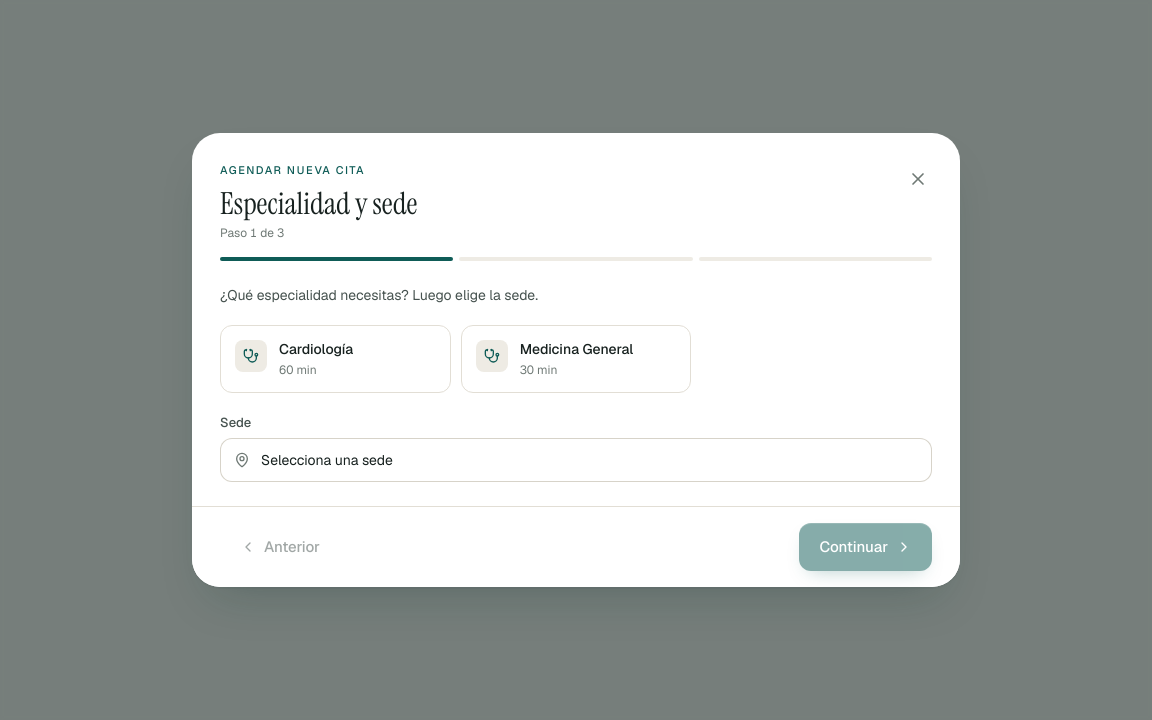
Test: BookAppointmentModal con calendario › consulta días del mes desde hoy y solo habilita los días con horarios
The width and height of the screenshot is (1152, 720).
Step 1. Click the radio button labelled "Cardiología 60 min" → (335, 359), box [220,325,451,393]
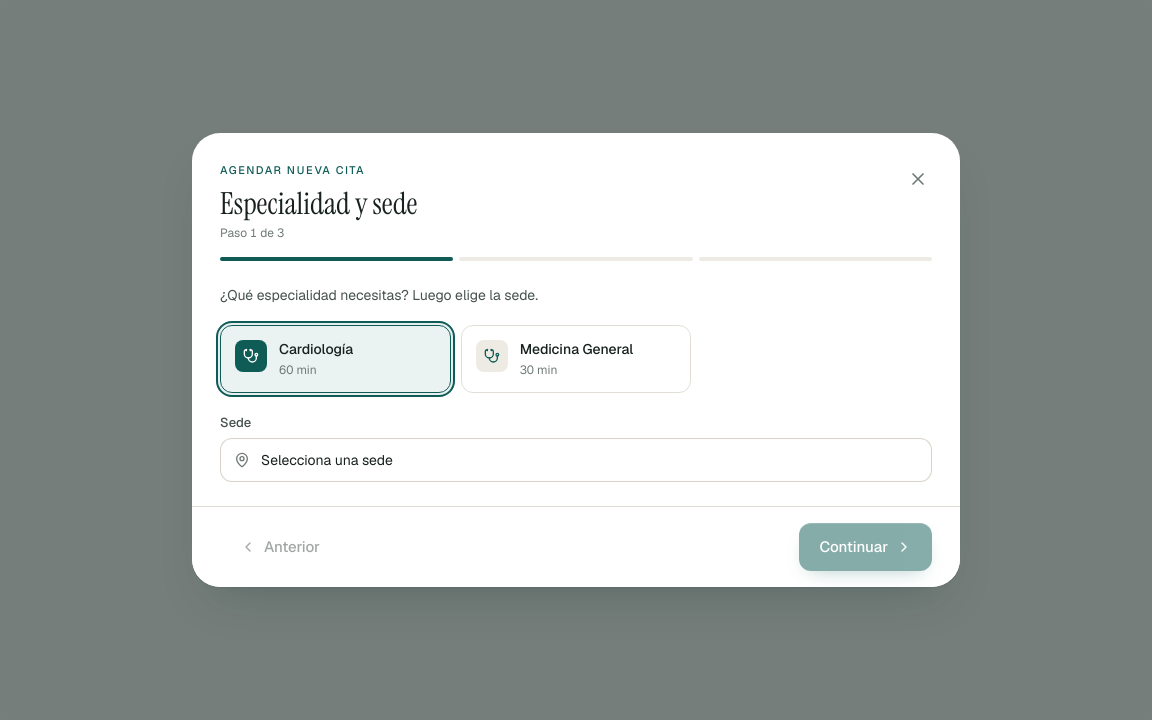
Step 2. Select "Sede Norte" in the dropdown labelled "Sede" → (576, 460), box [220,438,932,482]
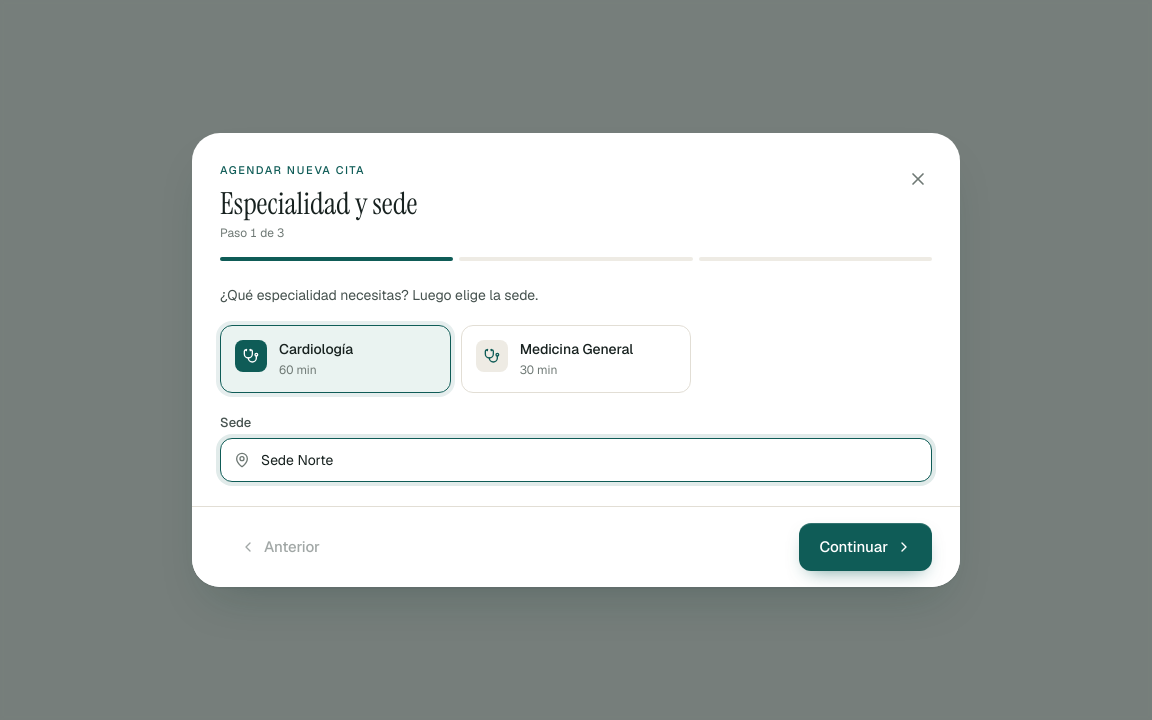
Step 3. Click the button "Continuar" → (866, 547), box [800,523,932,571]
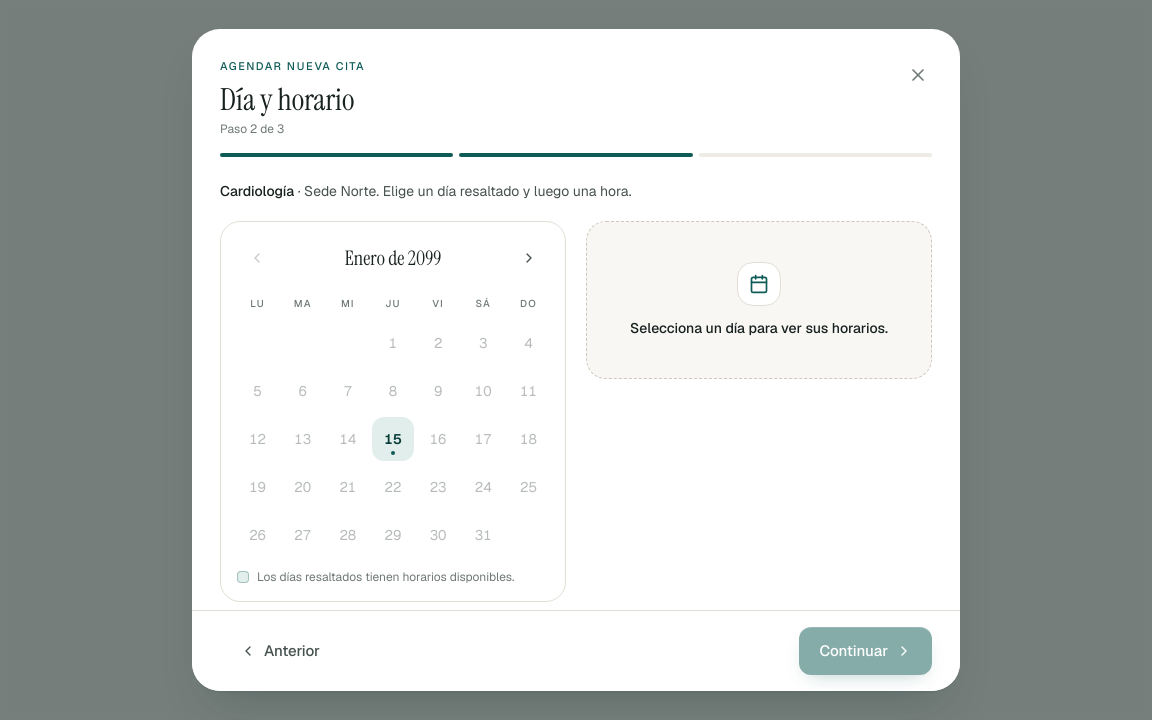
Result: the button named "2099-01-16: sin disponibilidad" is disabled at [418,417,459,461]
Result: the button named "2099-01-05: sin disponibilidad" is disabled at [237,369,278,413]
